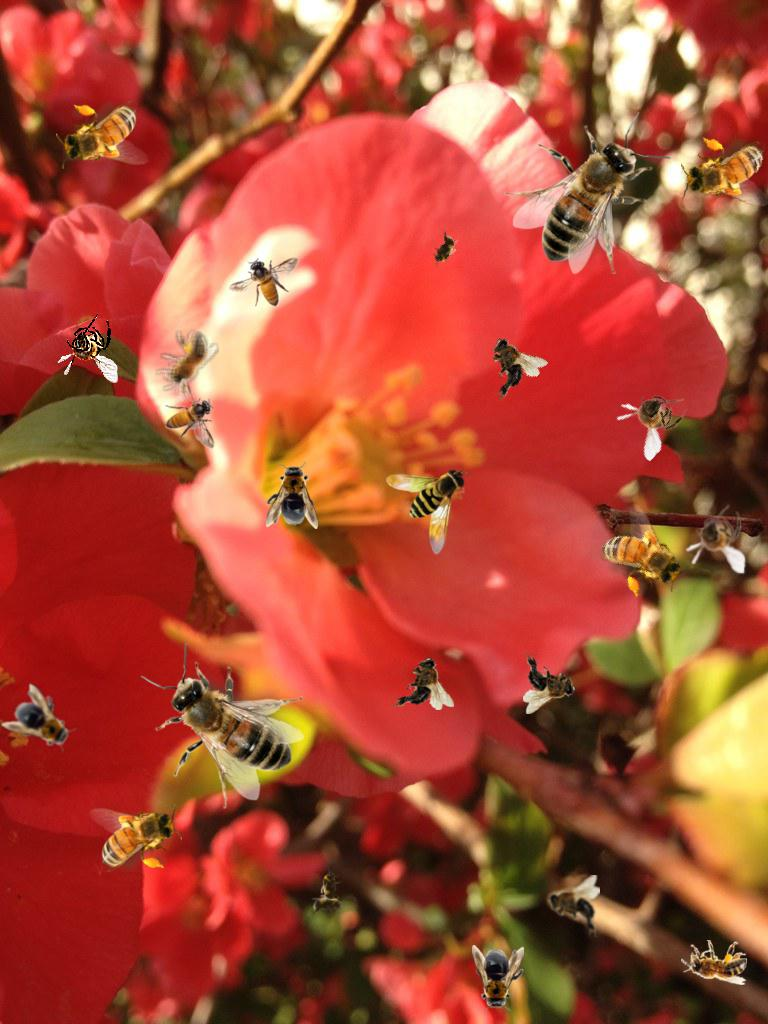Bee: (140, 641, 305, 811), (504, 112, 671, 274), (586, 498, 698, 615), (606, 369, 699, 463), (676, 131, 768, 212), (386, 467, 468, 555), (0, 681, 86, 763), (468, 324, 551, 404), (89, 804, 182, 872), (56, 101, 149, 169), (147, 322, 221, 403), (684, 501, 749, 575), (57, 313, 118, 383), (165, 378, 215, 449), (228, 257, 299, 307), (266, 461, 318, 529), (472, 945, 524, 1013), (523, 652, 576, 714), (547, 875, 600, 937), (392, 657, 454, 710), (681, 940, 747, 985), (423, 227, 465, 273), (308, 894, 348, 916), (320, 866, 342, 906)
